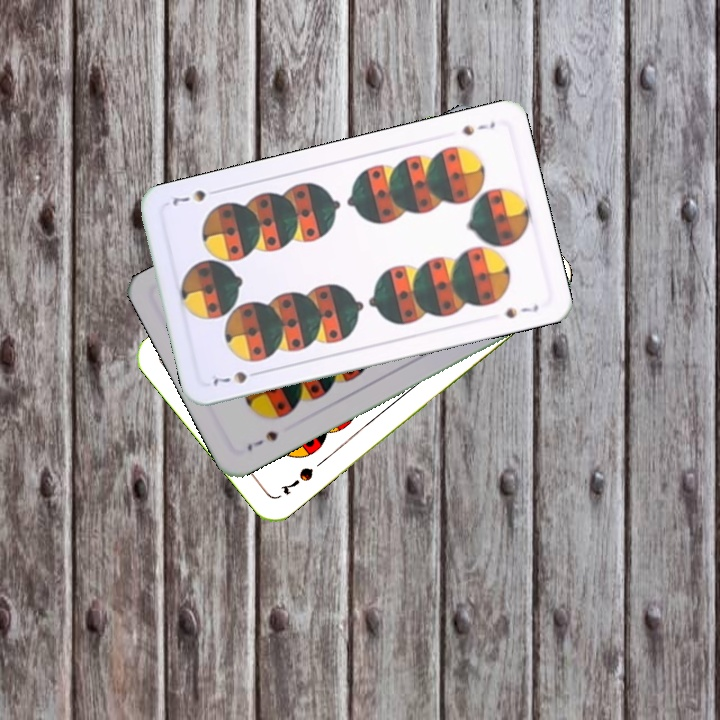S7: (276, 463, 316, 497), (209, 367, 264, 388), (243, 427, 281, 455), (458, 117, 498, 139)
